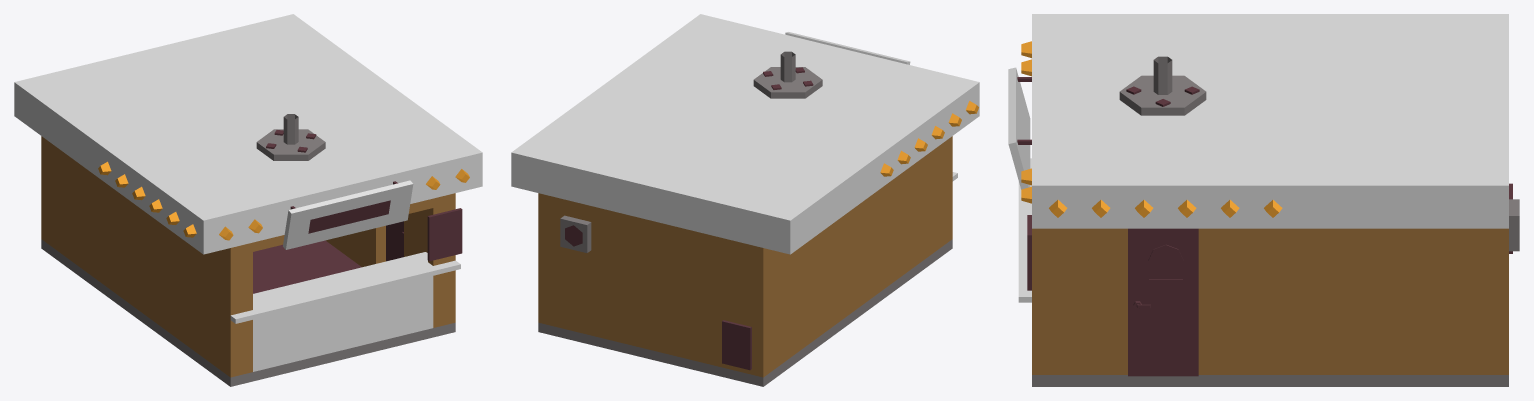
The model's file is souvenir-stall.fbx.
3 renders of one model, left to right at view 1: azimuth 30°, elevation 25°; view 2: azimuth 150°, elevation 25°; view 3: azimuth 270°, elevation 25°, orthographic. The views are drawn at different scales.
Parts seen in each view (by area): view 1: souvenir-stall, souvenir-stall.001; view 2: souvenir-stall; view 3: souvenir-stall.
Boxes of the visible parts, box(x1,y1,x2,y2) form: souvenir-stall: box(14, 14, 482, 386); souvenir-stall.001: box(427, 208, 462, 261); souvenir-stall: box(511, 14, 979, 386); souvenir-stall: box(1008, 14, 1519, 386).
Size of the model in its own units: 49002 by 32584 by 58547.
